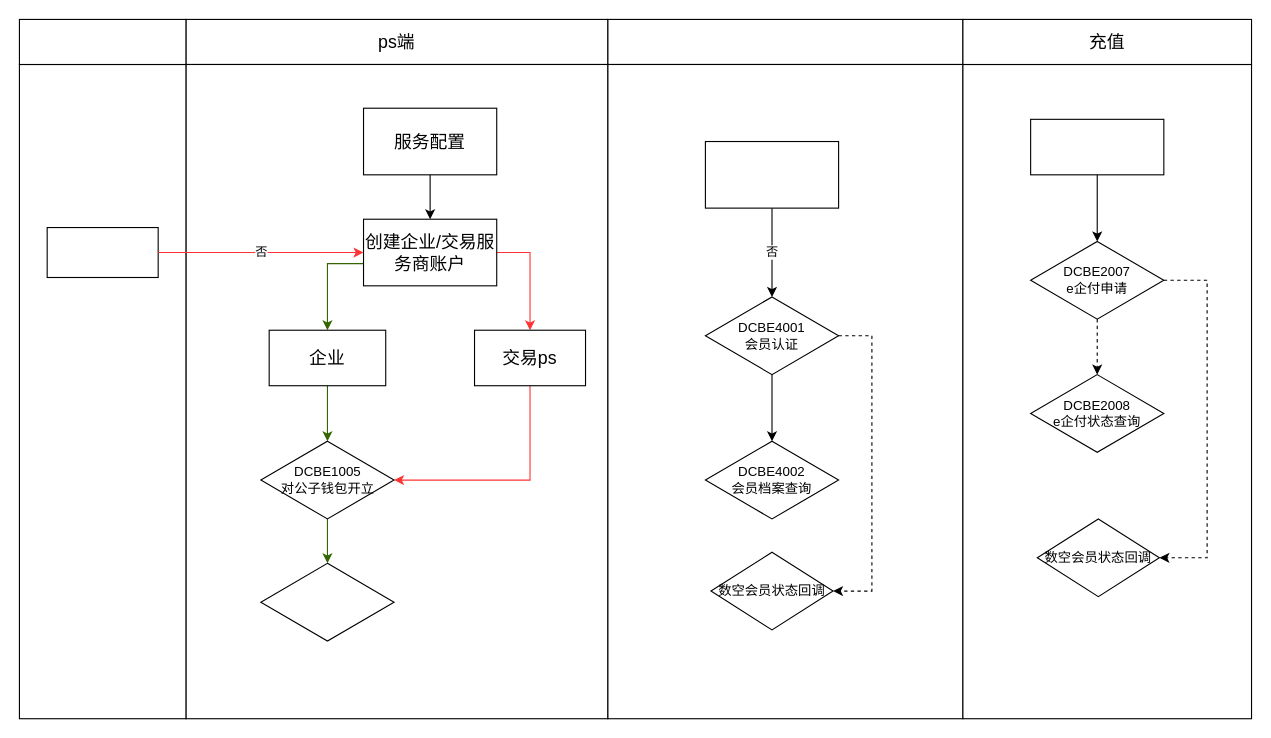
This 1271x738 diagram has some shape labels left out. The shapes that lost their labels are listed below. From the top down, each one's centre as x and y in pixels, then its label:
At pixel 102 41: "C端小程序".
At pixel 785 41: "B端".
At pixel 1097 146: "填写金额".
At pixel 771 174: "是否已完成 会员认证".
At pixel 102 252: "是否有子钱包".
At pixel 327 601: "DCBE4000 会员档案录入".
